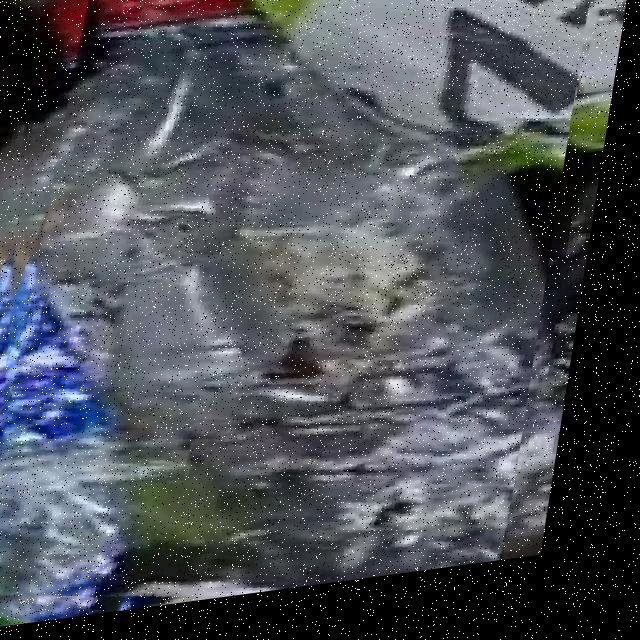litter: (0, 0, 602, 636), (0, 206, 220, 640)
